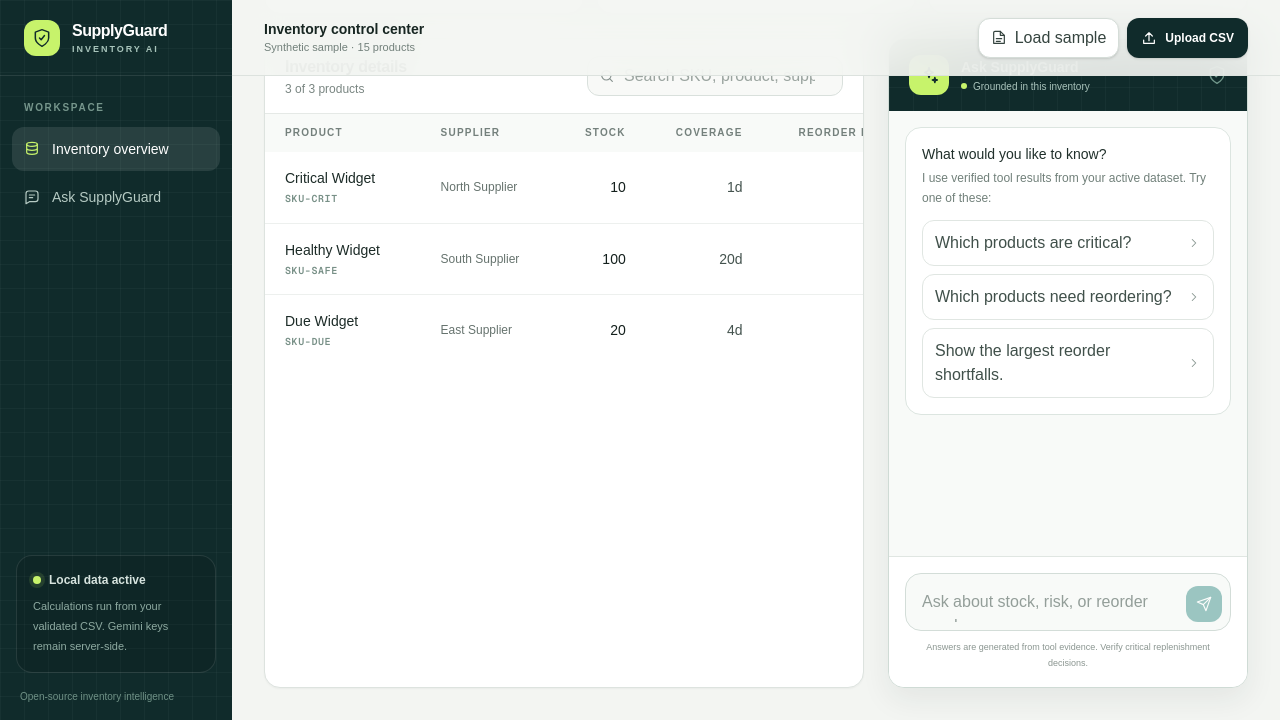
Scenario: InventoryDashboard › renders model text as text and surfaces sanitized API errors
This screenshot has width=1280, height=720.
(page scrolled)
Type "Find SKU-CRIT" into the text box named "Ask a question about this inventory" at (1046, 602), box top-left (914, 582), bottom-right (1178, 622)
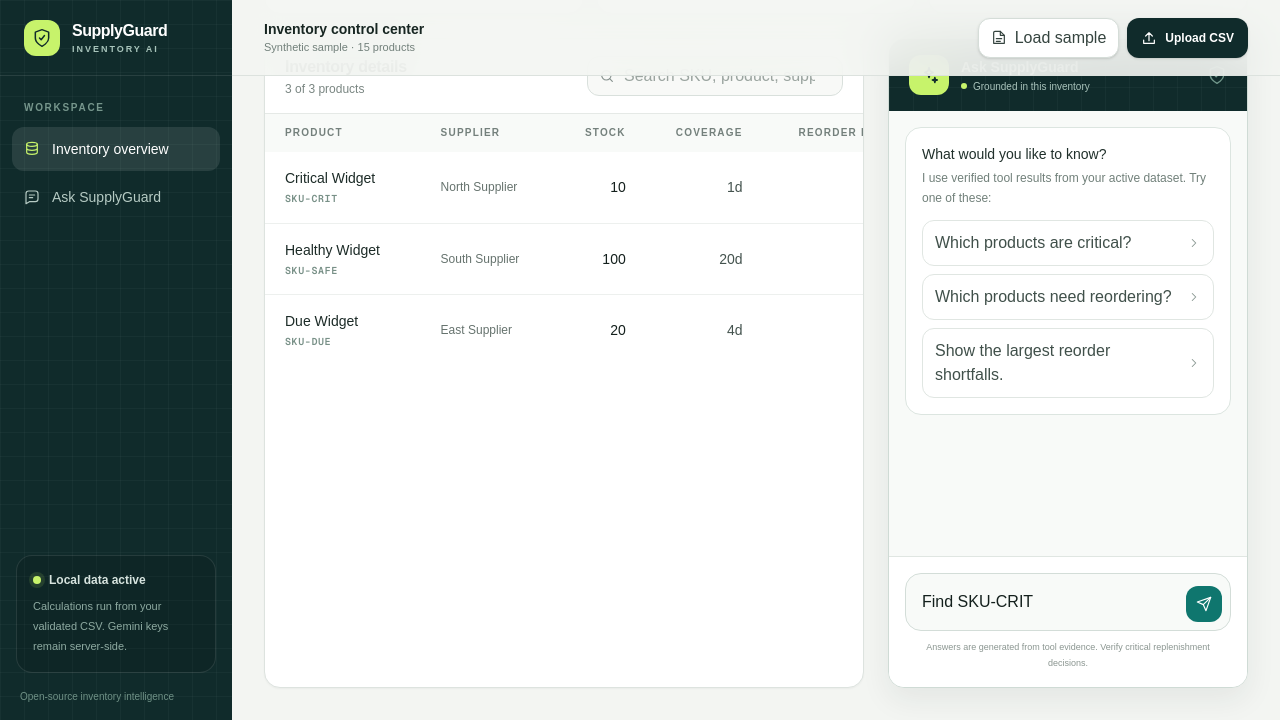
Click the button named "Send question" at (1204, 604), box top-left (1186, 586), bottom-right (1222, 622)
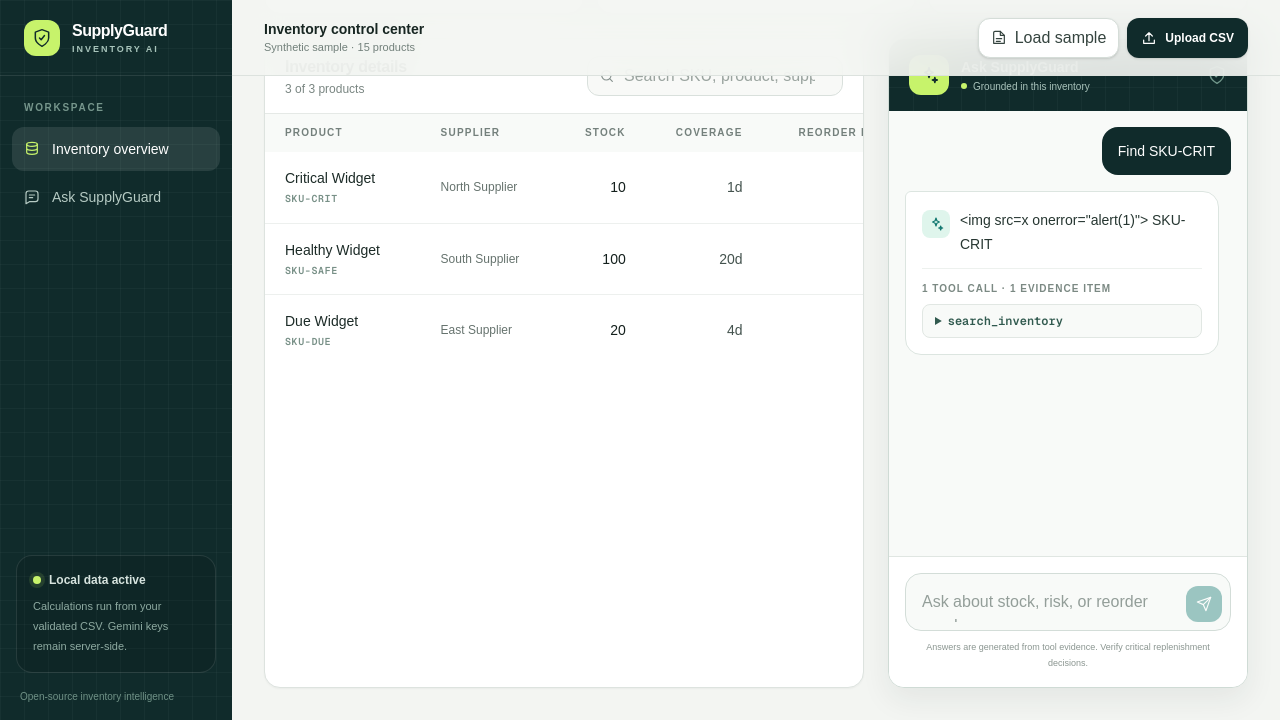
Now the text "<img src=x onerror=\"alert(1)\"> SKU-CRIT" is shown, box top-left (960, 208), bottom-right (1202, 256)
Type "Try again" into the text box named "Ask a question about this inventory" at (1046, 602), box top-left (914, 582), bottom-right (1178, 622)
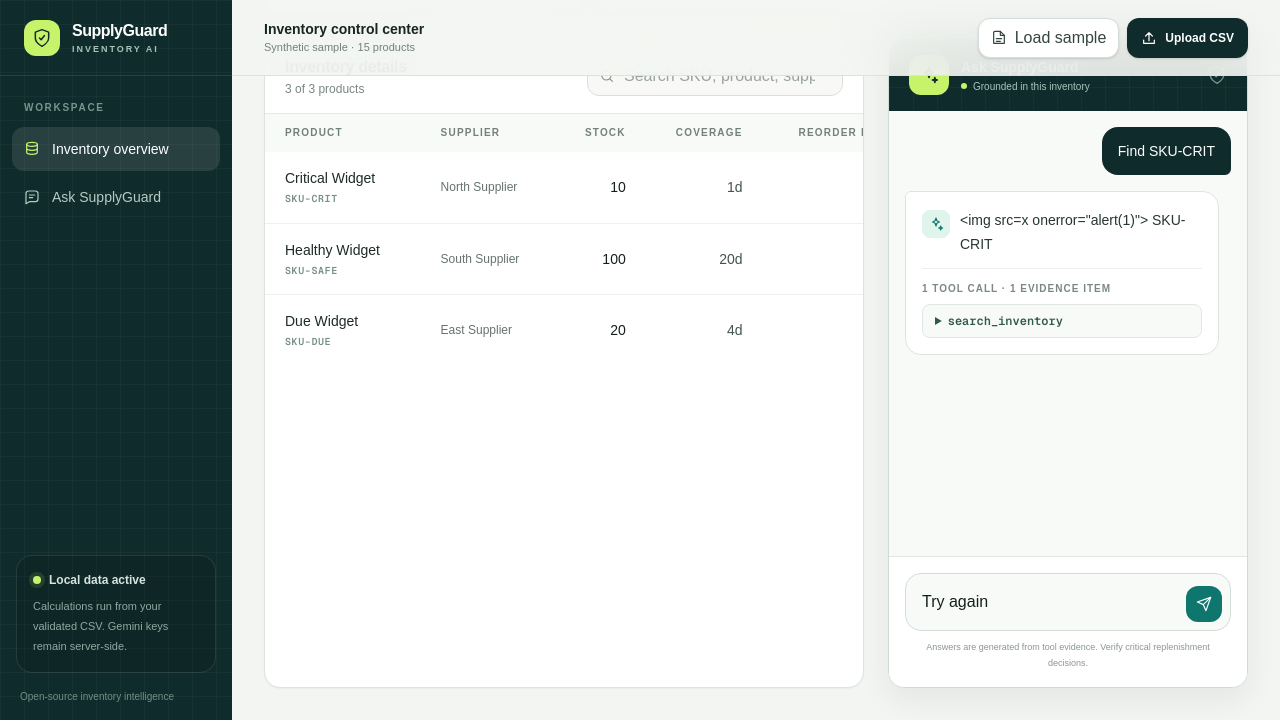
Click the button named "Send question" at (1204, 604), box top-left (1186, 586), bottom-right (1222, 622)
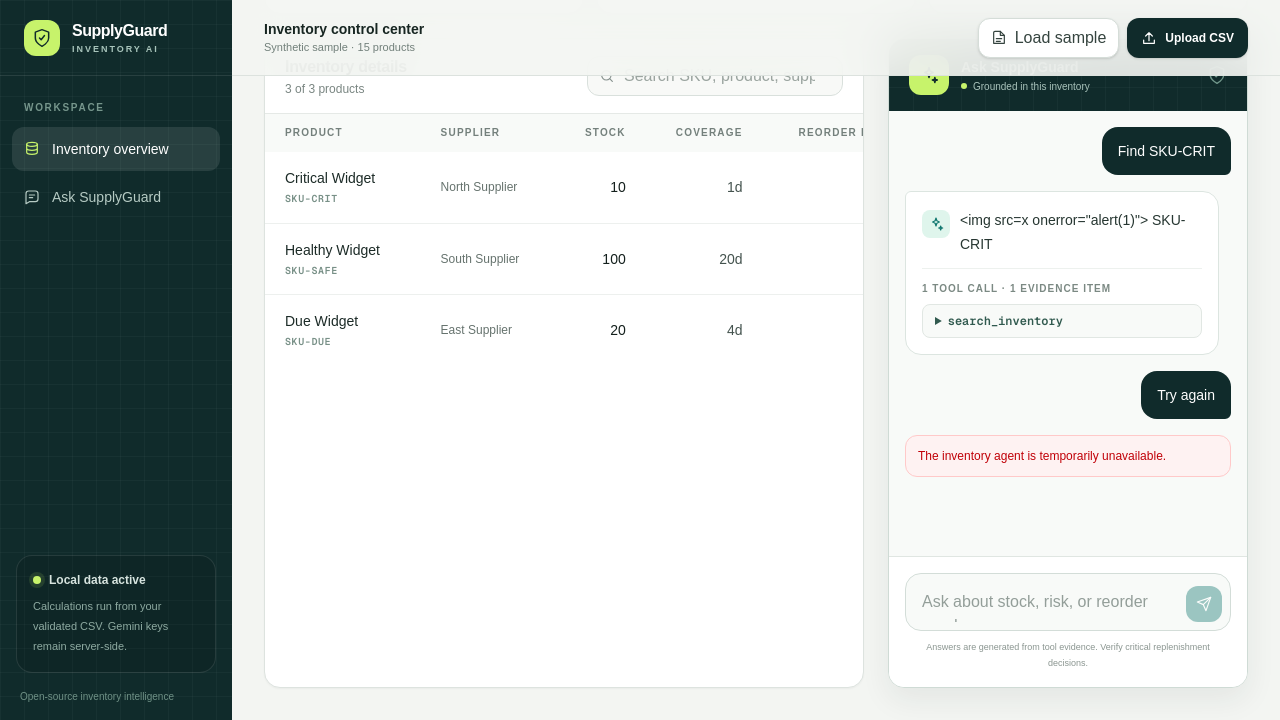
Now the text "The inventory agent is temporarily unavailable." is shown, box top-left (905, 435), bottom-right (1231, 477)
